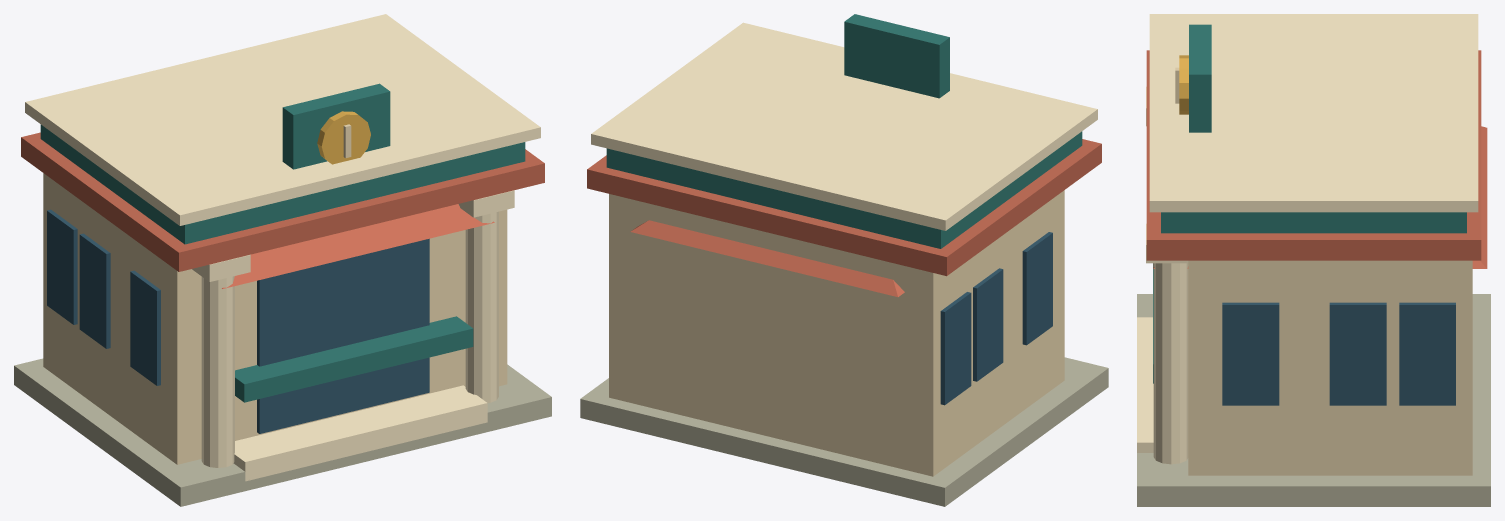
Rendered from harbor-facilities.glb.
The picture shows the model from 3 angles, left to right: view 1: azimuth 30°, elevation 25°; view 2: azimuth 150°, elevation 25°; view 3: azimuth 270°, elevation 25°; orthographic projection. The views are drawn at different scales.
Parts seen in each view (by area): view 1: harbor_bank_mesh, harbor_lottery_mesh; view 2: harbor_bank_mesh, harbor_lottery_mesh; view 3: harbor_bank_mesh, harbor_lottery_mesh.
Boxes of the visible parts, bbox=[...] form: harbor_bank_mesh: bbox=[14, 14, 551, 506]; harbor_lottery_mesh: bbox=[222, 204, 494, 402]; harbor_bank_mesh: bbox=[580, 14, 1108, 506]; harbor_lottery_mesh: bbox=[630, 220, 904, 296]; harbor_bank_mesh: bbox=[1137, 14, 1490, 506]; harbor_lottery_mesh: bbox=[1153, 126, 1487, 383].
Size of the model in its own units: 3.6 by 3.15 by 2.8.
